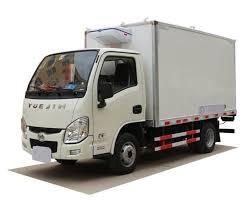truck: (16, 37, 160, 183)
